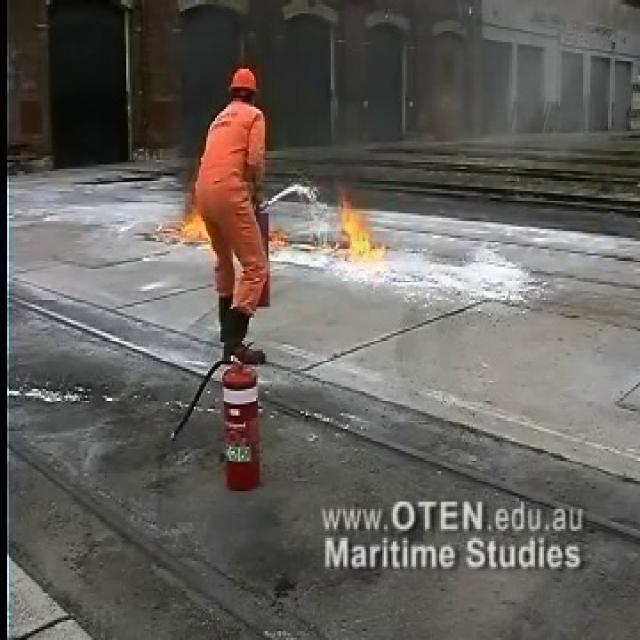Fire: (316, 189, 398, 280), (169, 199, 212, 249)
Smoke: (282, 1, 639, 173)
